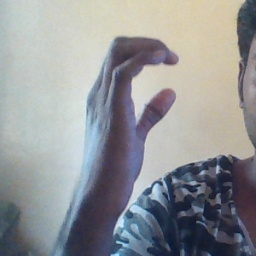C: (98, 25, 195, 145)
